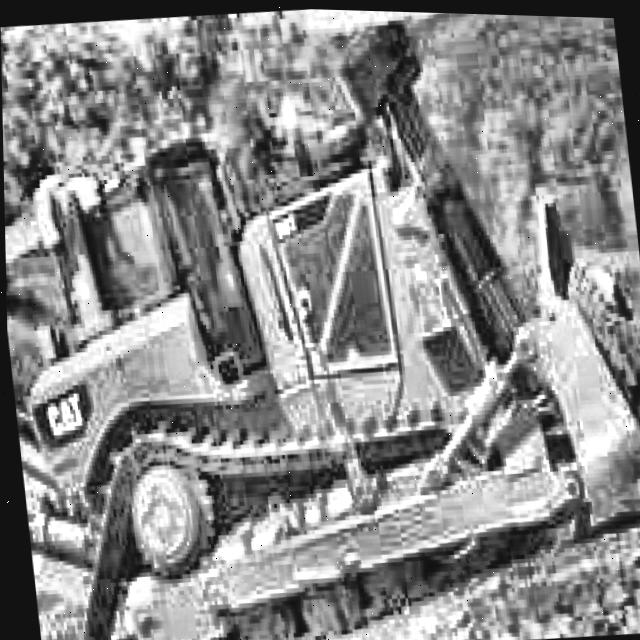buldozerpayloadergrader: (0, 25, 640, 640)
